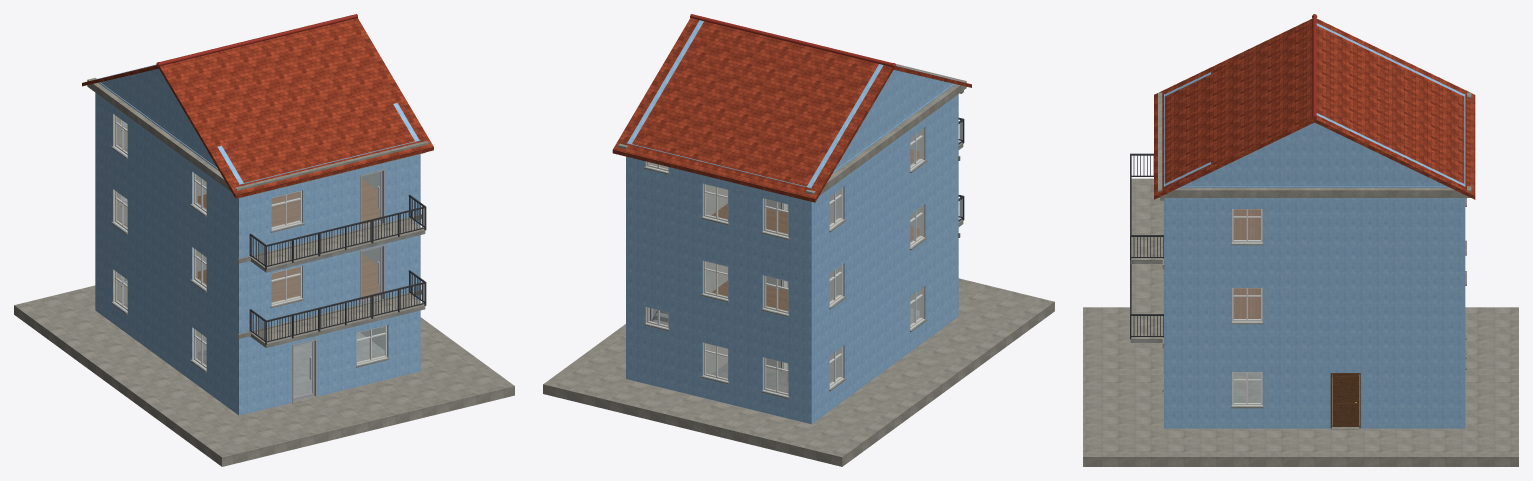
The model's file is b_lisbon_tile_house.gltf.
The picture shows the model from 3 angles, left to right: view 1: azimuth 30°, elevation 25°; view 2: azimuth 150°, elevation 25°; view 3: azimuth 270°, elevation 25°; orthographic projection. The views are drawn at different scales.
Visible parts, largest first — view 1: S_lisbon_tile_house, D_lisbon_tile_house_F1_S1_Door0, D_lisbon_tile_house_F2_S1_Door0, D_lisbon_tile_house_F3_S1_Door0; view 2: S_lisbon_tile_house; view 3: S_lisbon_tile_house, D_lisbon_tile_house_F1_E1_Door0.
Part boxes in pixels (x1=…): S_lisbon_tile_house: x1=14, y1=14, x2=514, y2=466; D_lisbon_tile_house_F1_S1_Door0: x1=293, y1=341, x2=314, y2=400; D_lisbon_tile_house_F2_S1_Door0: x1=361, y1=246, x2=382, y2=303; D_lisbon_tile_house_F3_S1_Door0: x1=361, y1=171, x2=382, y2=228; S_lisbon_tile_house: x1=543, y1=14, x2=1054, y2=466; S_lisbon_tile_house: x1=1083, y1=14, x2=1518, y2=466; D_lisbon_tile_house_F1_E1_Door0: x1=1332, y1=374, x2=1358, y2=426.
Size of the model in its own units: 13 by 13.25 by 16.
Materials: 20 (11 with a texture image).
